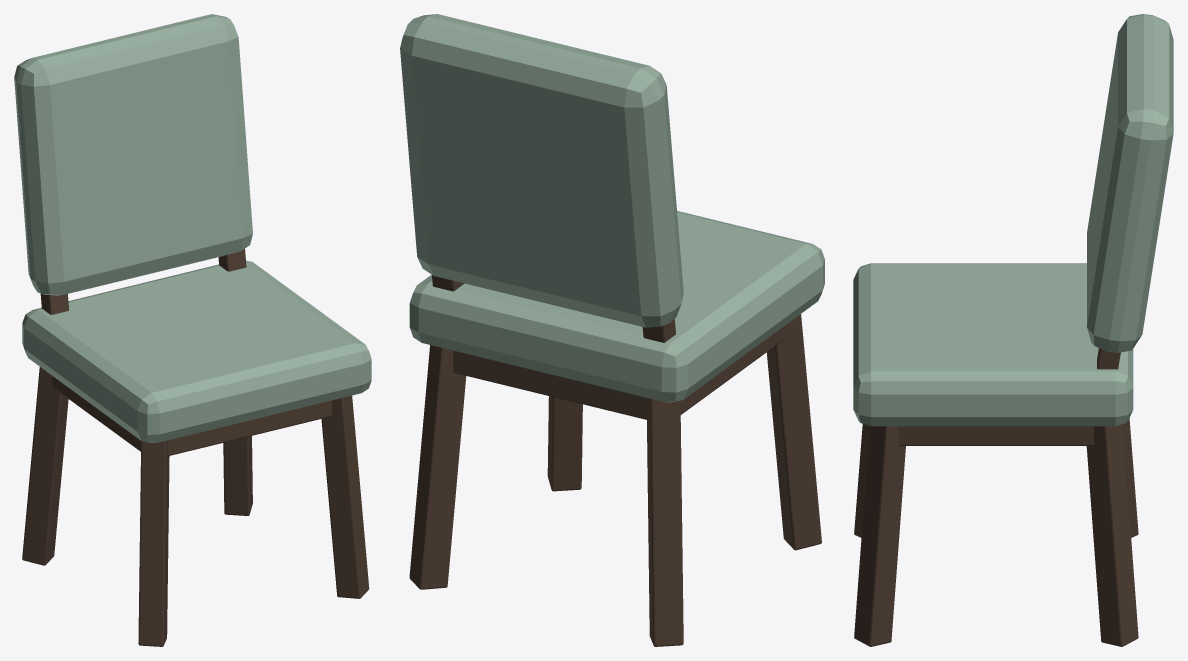
File: chair_upholstered_dining.glb
The picture shows the model from 3 angles, left to right: view 1: azimuth 30°, elevation 25°; view 2: azimuth 150°, elevation 25°; view 3: azimuth 270°, elevation 25°; orthographic projection. The views are drawn at different scales.
Parts seen in each view (by area): view 1: UpholsteredDiningChair_Padded_Back, UpholsteredDiningChair_Seat_Cushion, UpholsteredDiningChair_Leg.002, UpholsteredDiningChair_Leg, UpholsteredDiningChair_Leg.001, UpholsteredDiningChair_Front_Back_Apron, UpholsteredDiningChair_Leg.003, UpholsteredDiningChair_Side_Apron; view 2: UpholsteredDiningChair_Padded_Back, UpholsteredDiningChair_Seat_Cushion, UpholsteredDiningChair_Leg.003, UpholsteredDiningChair_Leg.001, UpholsteredDiningChair_Leg, UpholsteredDiningChair_Front_Back_Apron.001, UpholsteredDiningChair_Leg.002, UpholsteredDiningChair_Side_Apron; view 3: UpholsteredDiningChair_Seat_Cushion, UpholsteredDiningChair_Padded_Back, UpholsteredDiningChair_Leg.002, UpholsteredDiningChair_Leg.003, UpholsteredDiningChair_Side_Apron.001, UpholsteredDiningChair_Leg.001, UpholsteredDiningChair_Leg.
Boxes of the visible parts, <box> form: UpholsteredDiningChair_Padded_Back: <box>14,14,252,295</box>; UpholsteredDiningChair_Seat_Cushion: <box>22,260,371,442</box>; UpholsteredDiningChair_Leg.002: <box>321,395,369,598</box>; UpholsteredDiningChair_Leg: <box>138,440,169,646</box>; UpholsteredDiningChair_Leg.001: <box>22,367,68,565</box>; UpholsteredDiningChair_Front_Back_Apron: <box>168,400,332,456</box>; UpholsteredDiningChair_Leg.003: <box>223,436,252,515</box>; UpholsteredDiningChair_Side_Apron: <box>52,376,140,451</box>; UpholsteredDiningChair_Padded_Back: <box>400,14,683,327</box>; UpholsteredDiningChair_Seat_Cushion: <box>409,211,824,402</box>; UpholsteredDiningChair_Leg.003: <box>409,345,466,589</box>; UpholsteredDiningChair_Leg.001: <box>647,398,683,646</box>; UpholsteredDiningChair_Leg: <box>766,314,821,550</box>; UpholsteredDiningChair_Front_Back_Apron.001: <box>453,350,648,420</box>; UpholsteredDiningChair_Leg.002: <box>547,396,582,491</box>; UpholsteredDiningChair_Side_Apron: <box>680,325,786,414</box>; UpholsteredDiningChair_Seat_Cushion: <box>853,263,1133,426</box>; UpholsteredDiningChair_Padded_Back: <box>1087,14,1173,352</box>; UpholsteredDiningChair_Leg.002: <box>854,426,905,646</box>; UpholsteredDiningChair_Leg.003: <box>1086,424,1138,646</box>; UpholsteredDiningChair_Side_Apron.001: <box>898,426,1093,445</box>; UpholsteredDiningChair_Leg.001: <box>1122,418,1138,537</box>; UpholsteredDiningChair_Leg: <box>854,424,869,537</box>.
Bounding box in the file's own units: 0.48 × 0.9643 × 0.5309.
